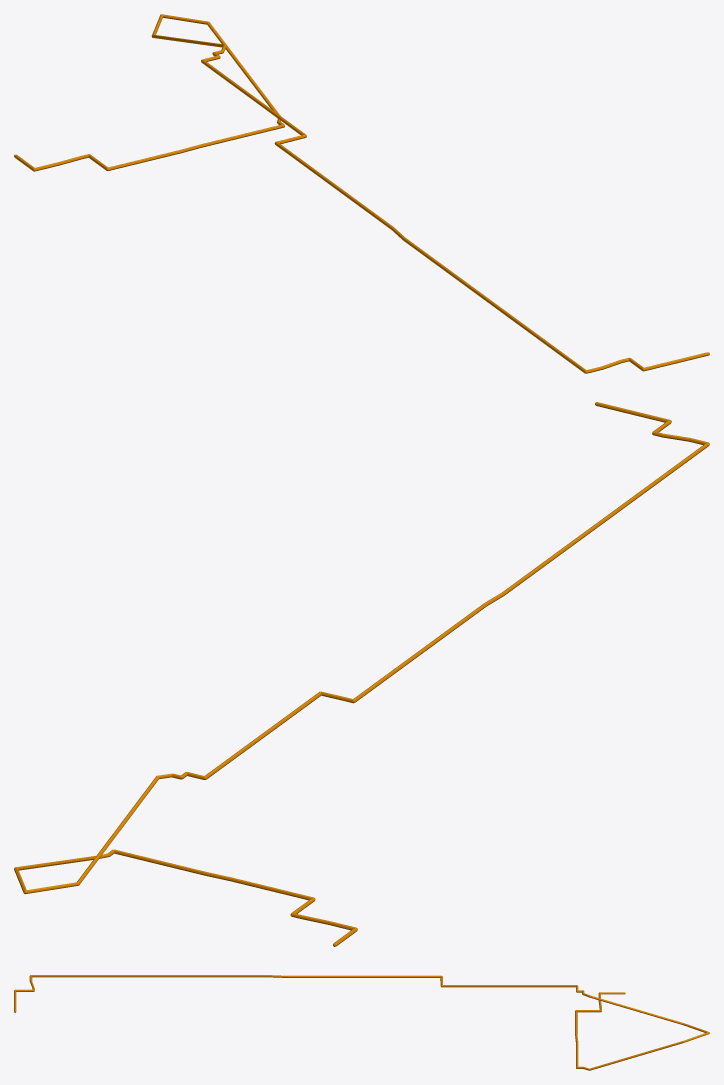
3 views of the same model, one above another, from view 1: azimuth 30°, elevation 25°; view 2: azimuth 150°, elevation 25°; view 3: azimuth 270°, elevation 25° (orthographic). The views are drawn at different scales.
Size of the model in its own units: 1492 by 520 by 5666.
